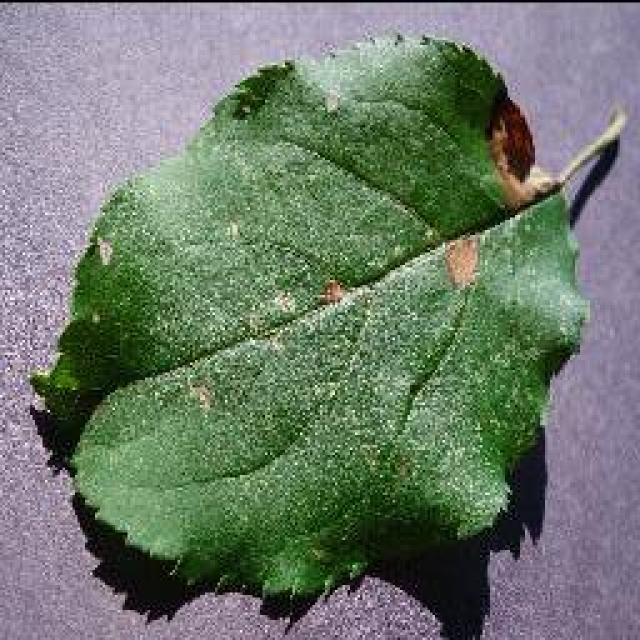Black_rot: (27, 27, 625, 605)
